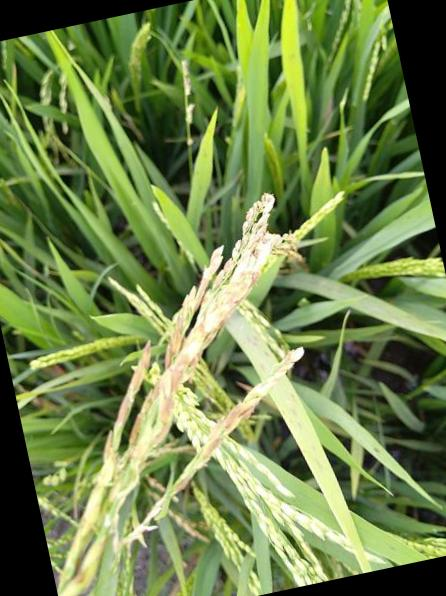Panicle Blight: (130, 188, 305, 447), (171, 401, 258, 496), (61, 483, 112, 596), (112, 340, 150, 457)
